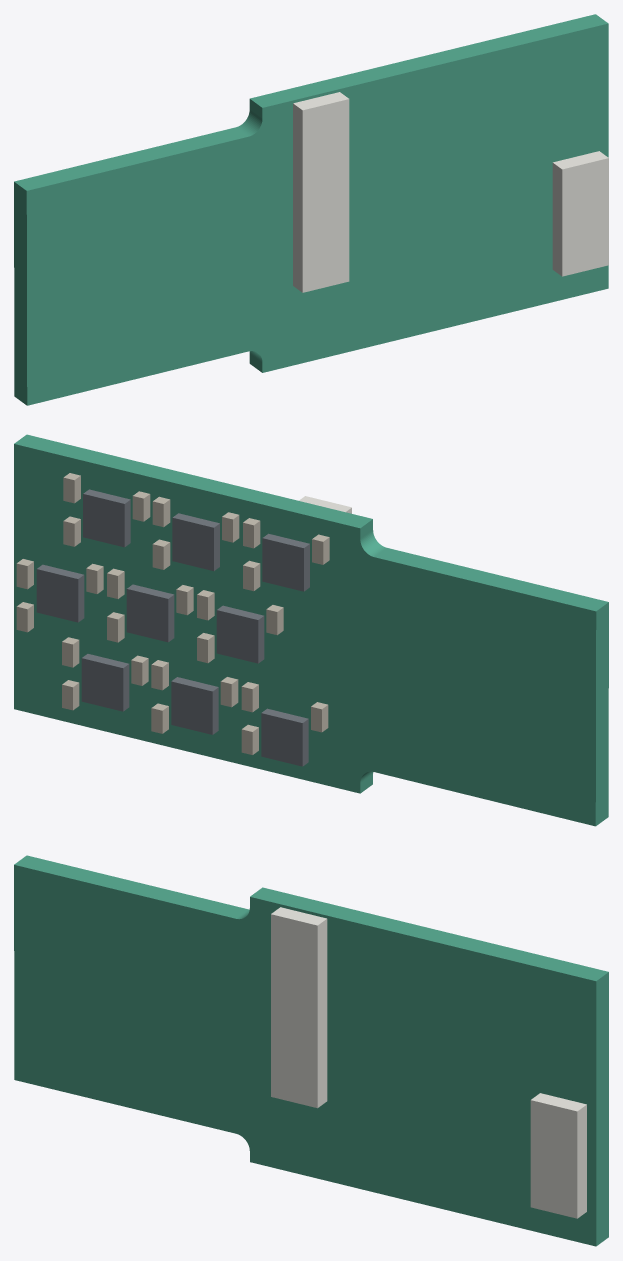
Rendered from Existing_LDO_Board.glb.
3 views of the same model, one above another, from view 1: azimuth 30°, elevation 25°; view 2: azimuth 150°, elevation 25°; view 3: azimuth 330°, elevation 25° (orthographic).
Parts seen in each view (by area): view 1: board, conn; view 2: board, ic, passive; view 3: board, conn.
Boxes of the visible parts, x1,y1,x2,y2 form: board: [14, 14, 608, 405]; conn: [293, 92, 608, 292]; board: [14, 434, 608, 826]; ic: [36, 489, 309, 766]; passive: [16, 473, 329, 754]; board: [14, 855, 608, 1246]; conn: [271, 907, 586, 1218].
Size of the model in its own units: 42.03 by 18.3 by 3.6.
